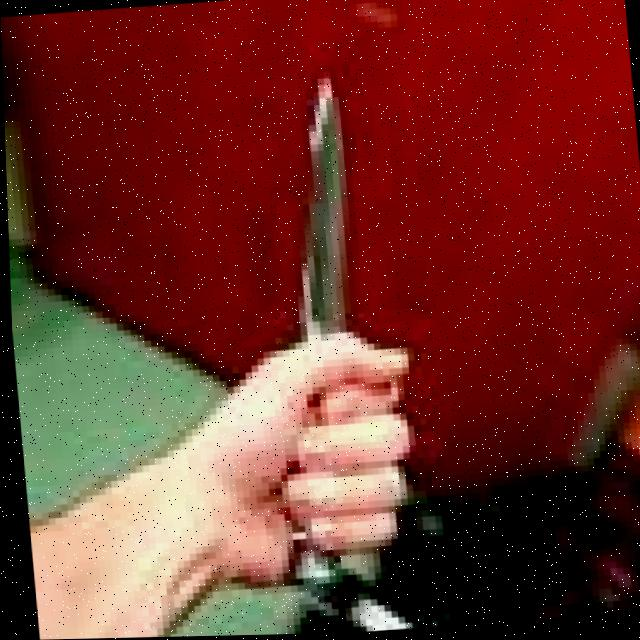knife: (267, 72, 369, 339)
